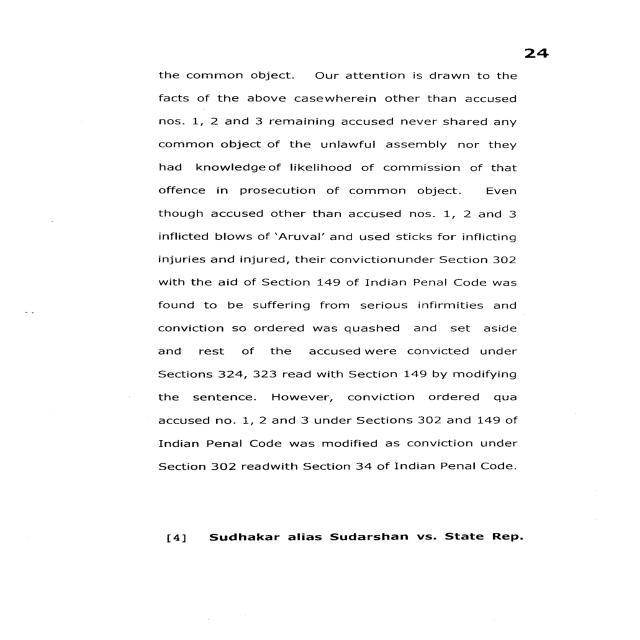page-number: (427, 0, 638, 67)
